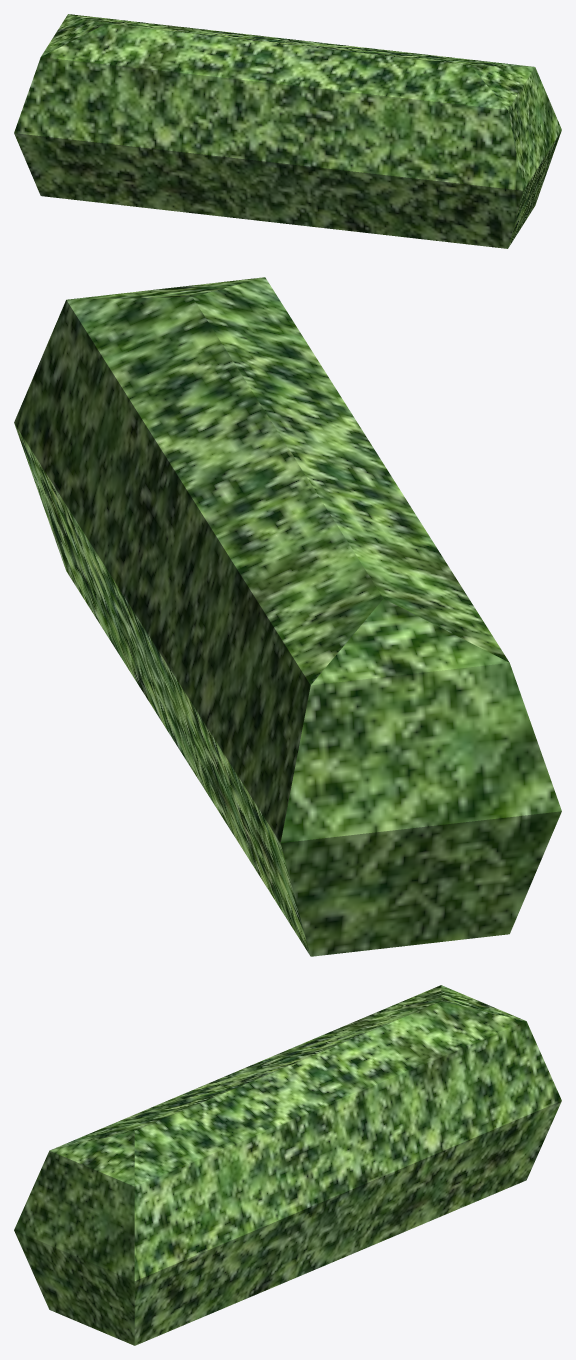
File: long_bush.fbx
The picture shows the model from 3 angles, top to bottom: view 1: azimuth 30°, elevation 25°; view 2: azimuth 150°, elevation 25°; view 3: azimuth 270°, elevation 25°; orthographic projection. The views are drawn at different scales.
Visible parts, largest first — view 1: long_bush; view 2: long_bush; view 3: long_bush.
Part boxes in pixels (bbox=[...]): long_bush: bbox=[14, 14, 561, 248]; long_bush: bbox=[14, 277, 561, 956]; long_bush: bbox=[14, 985, 561, 1345].
Size of the model in its own units: 243 by 243 by 87.65.
